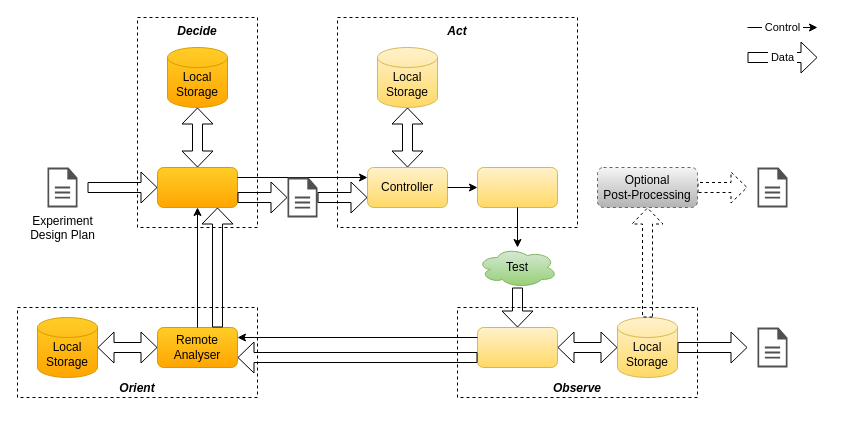
The diagram is 843 pixels wide and 421 high, and some of its shapes have lost their labels. Each missing label, with the centre of its shape:
"(Remote) Planner" goes at (197,187).
"Actuators" goes at (517,187).
"Experiment Plan" goes at (302,197).
"Optional Post-Processed Experiment Result" goes at (772,187).
"Raw Experiment Result" goes at (772,347).
"Sensors" goes at (517,347).
